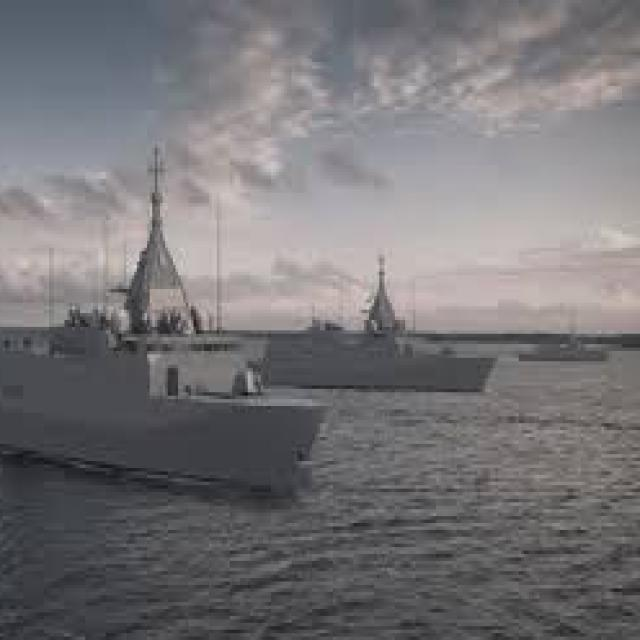navalvessels: (0, 182, 338, 506), (258, 276, 502, 389)
